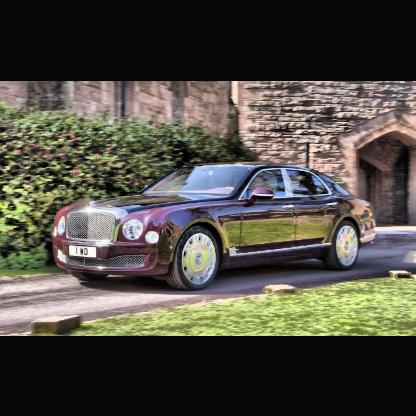Bentley Mulsanne Sedan 2011: (53, 160, 378, 295)
